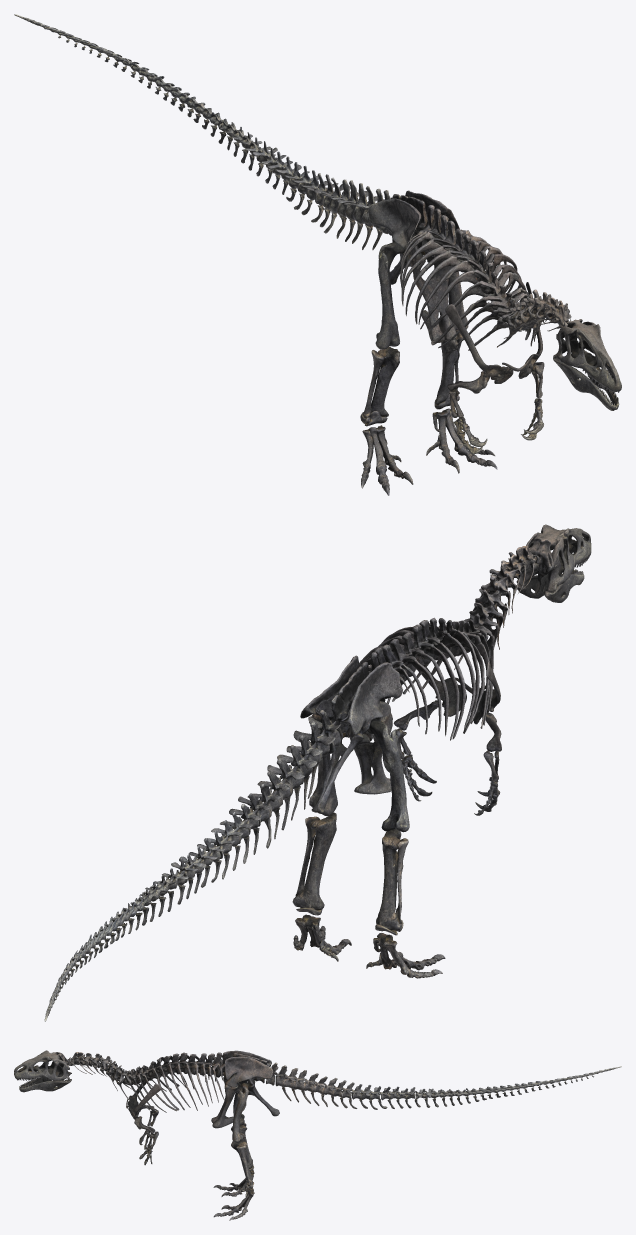
File: allosaurus-optimized.glb
3 renders of one model, top to bottom at view 1: azimuth 30°, elevation 25°; view 2: azimuth 150°, elevation 25°; view 3: azimuth 270°, elevation 25°, orthographic. The views are drawn at different scales.
Parts seen in each view (by area): view 1: Object_4, Object_3, Object_9, Object_2, Object_7, Object_13; view 2: Object_4, Object_9, Object_3, Object_2, Object_7, Object_13; view 3: Object_9, Object_4, Object_3, Object_2, Object_7, Object_13.
Boxes of the visible parts, left/top/right/bottom form: Object_4: left=360, top=241, right=544, bottom=495; Object_3: left=400, top=205, right=531, bottom=350; Object_9: left=14, top=14, right=393, bottom=250; Object_2: left=368, top=190, right=459, bottom=342; Object_7: left=553, top=319, right=621, bottom=410; Object_13: left=497, top=289, right=571, bottom=347; Object_4: left=292, top=661, right=501, bottom=978; Object_9: left=44, top=710, right=340, bottom=1021; Object_3: left=358, top=617, right=494, bottom=740; Object_2: left=300, top=655, right=402, bottom=813; Object_7: left=516, top=524, right=591, bottom=602; Object_13: left=454, top=546, right=539, bottom=669; Object_9: left=266, top=1062, right=621, bottom=1109; Object_4: left=126, top=1067, right=254, bottom=1220; Object_3: left=122, top=1052, right=228, bottom=1112; Object_2: left=211, top=1050, right=279, bottom=1128; Object_7: left=14, top=1050, right=71, bottom=1092; Object_13: left=66, top=1052, right=131, bottom=1100.
Size of the model in its own units: 1.35 by 2.63 by 9.57.
Materials: 6 (6 with a texture image).
